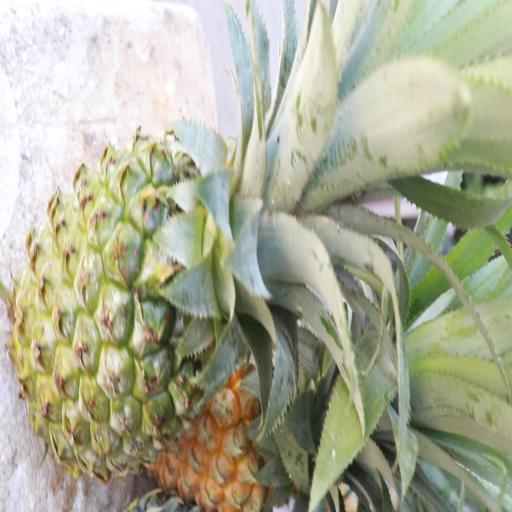------------------------------: (12, 129, 239, 466)
Pineapple - v8 v1: (147, 343, 326, 512)
